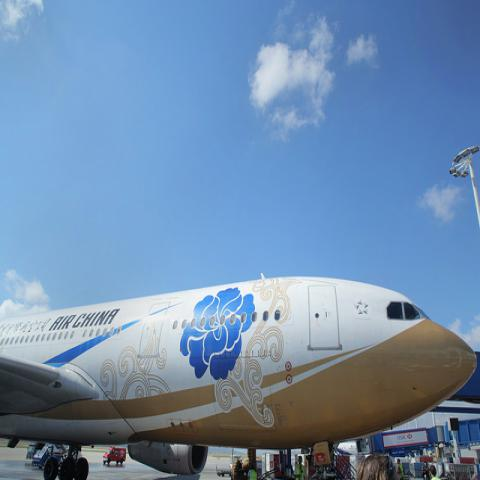truck: (102, 446, 127, 466)
